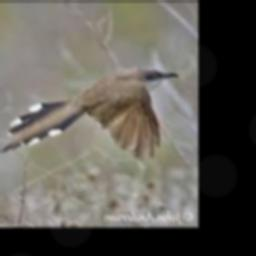Cuckoo: (1, 66, 179, 159)
